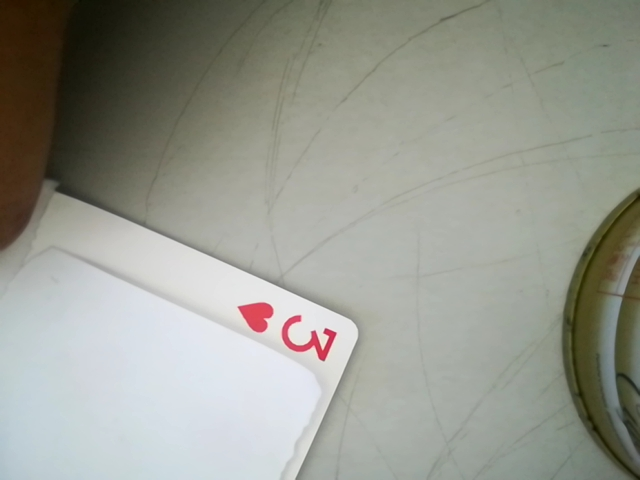hx 3: (235, 295, 353, 368)
